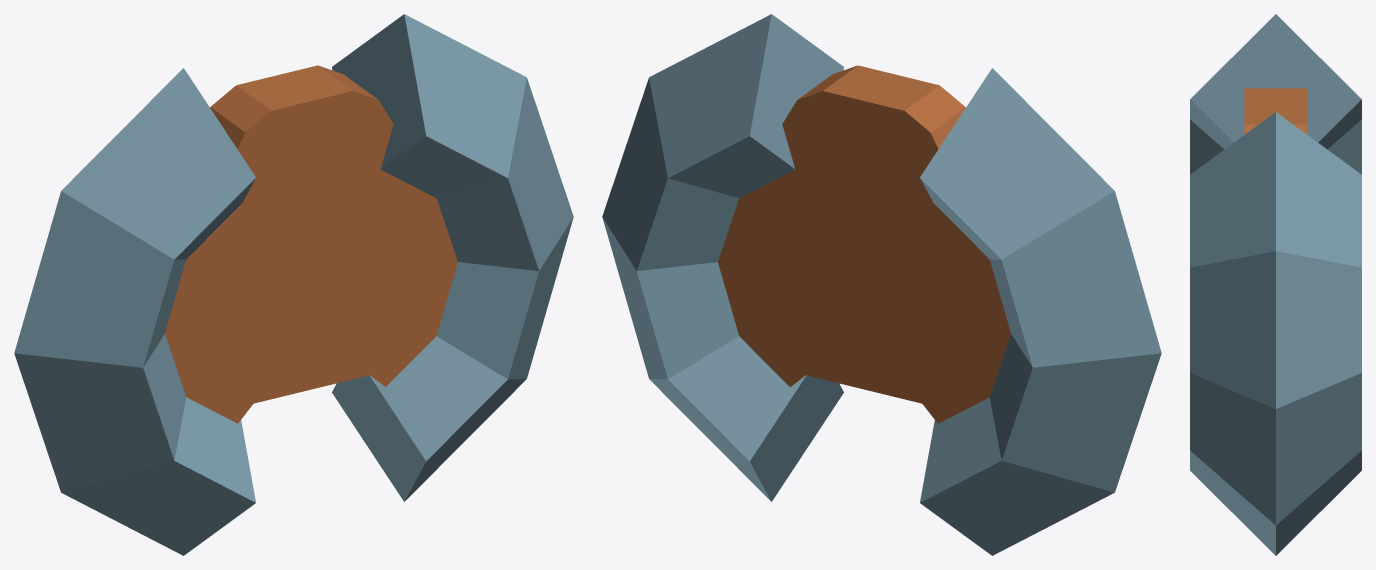
The model's file is fangyu.fbx.
The picture shows the model from 3 angles, left to right: view 1: azimuth 30°, elevation 25°; view 2: azimuth 150°, elevation 25°; view 3: azimuth 270°, elevation 25°; orthographic projection. The views are drawn at different scales.
Parts seen in each view (by area): view 1: FANGYU:pTorus2, FANGYU:pCube1; view 2: FANGYU:pTorus2, FANGYU:pCube1; view 3: FANGYU:pTorus2, FANGYU:pCube1.
Part boxes in pixels (x1=…): FANGYU:pTorus2: x1=14, y1=14, x2=573, y2=555; FANGYU:pCube1: x1=165, y1=65, x2=457, y2=423; FANGYU:pTorus2: x1=602, y1=14, x2=1161, y2=555; FANGYU:pCube1: x1=718, y1=65, x2=1010, y2=423; FANGYU:pTorus2: x1=1190, y1=14, x2=1361, y2=555; FANGYU:pCube1: x1=1244, y1=88, x2=1307, y2=134.
Size of the model in its own units: 84.16 by 70.16 by 24.59.
